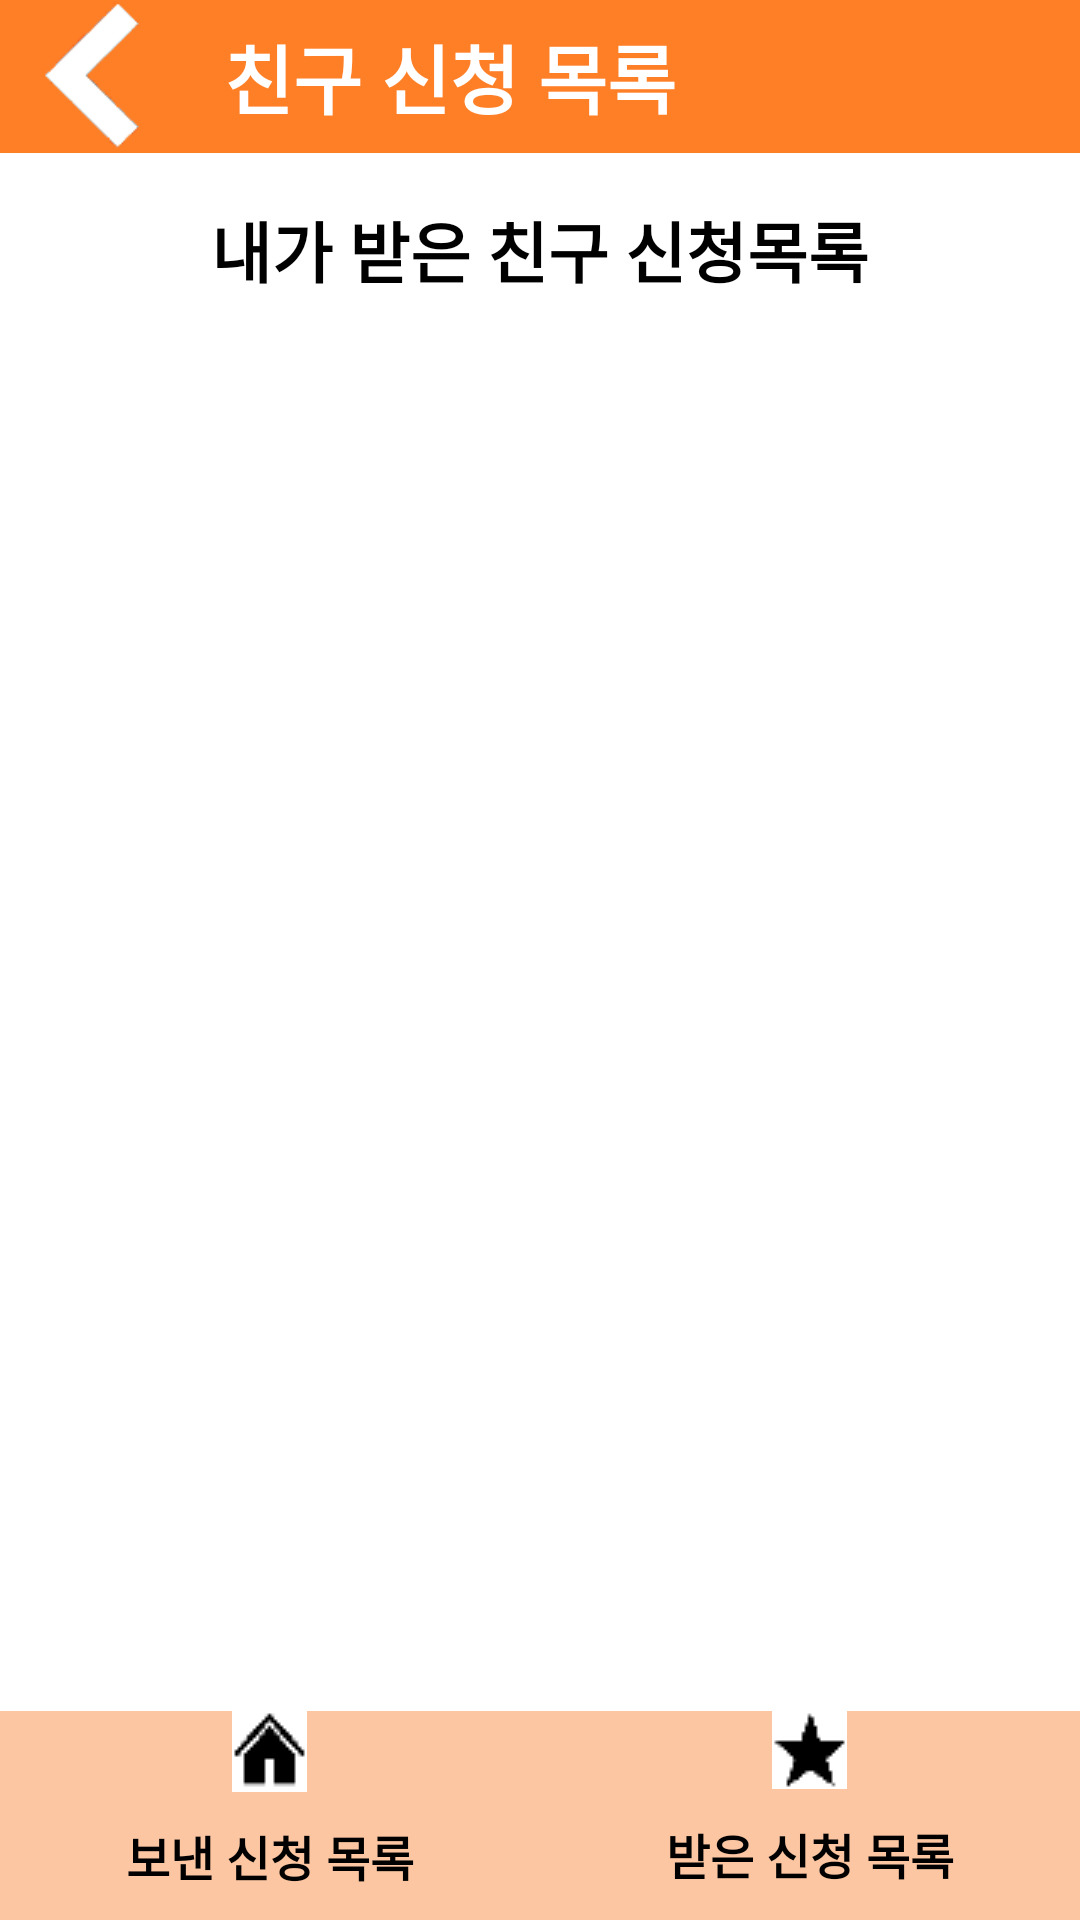

Where to tap for icons on this 1080x1920 app screen, as point (x, y):
backicon: point (92, 76)
